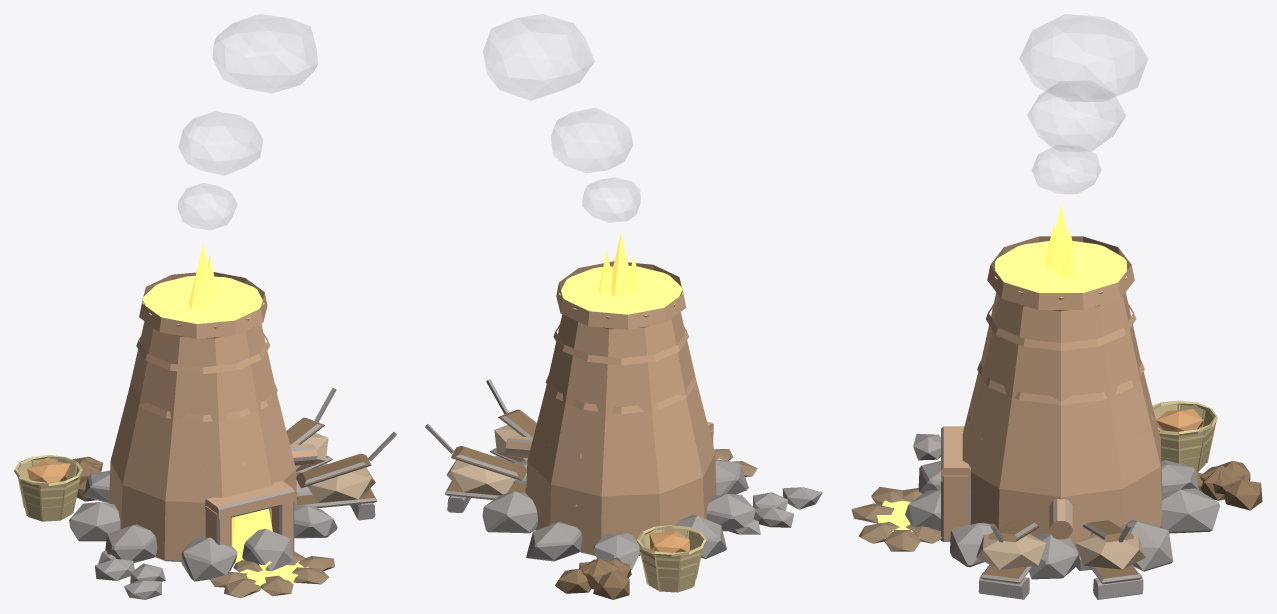
Rendered from asset_smelter_lit.glb.
3 renders of one model, left to right at view 1: azimuth 30°, elevation 25°; view 2: azimuth 150°, elevation 25°; view 3: azimuth 270°, elevation 25°, orthographic. The views are drawn at different scales.
Visible parts, largest first — view 1: asset_smelter_lit; view 2: asset_smelter_lit; view 3: asset_smelter_lit.
Boxes of the visible parts, left/top/right/bottom form: asset_smelter_lit: left=14, top=14, right=396, bottom=599; asset_smelter_lit: left=425, top=14, right=822, bottom=599; asset_smelter_lit: left=851, top=14, right=1262, bottom=599.
Size of the model in its own units: 1.82 by 2.78 by 1.92.
